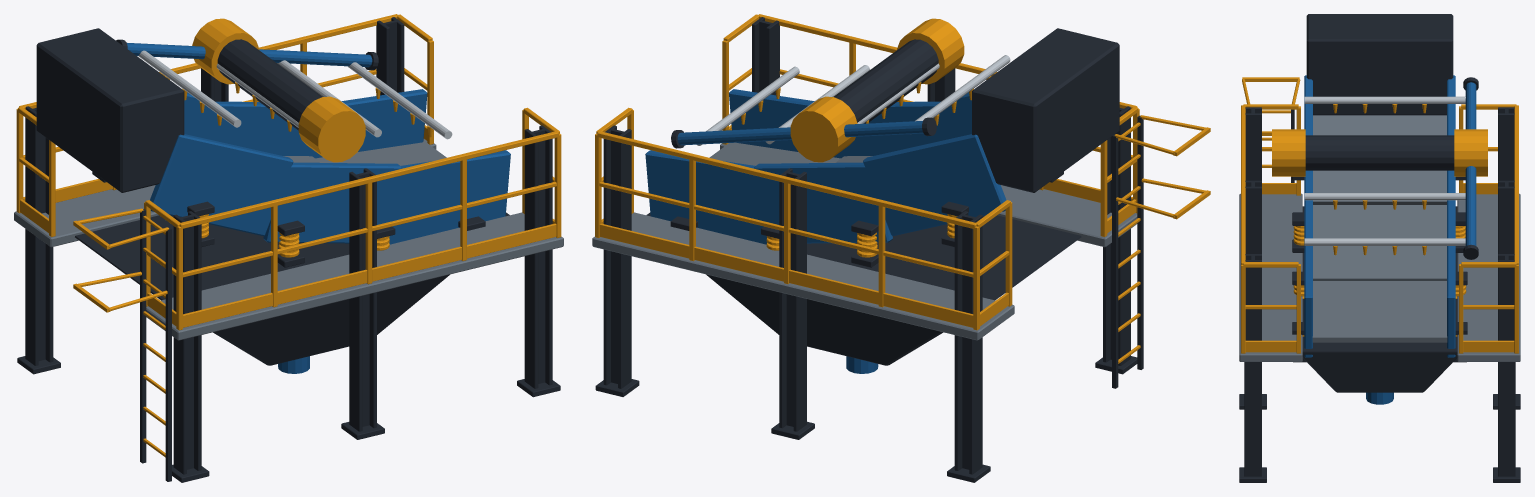
File: desliming_screen_ds201.glb
3 views of the same model, side by side, from view 1: azimuth 30°, elevation 25°; view 2: azimuth 150°, elevation 25°; view 3: azimuth 270°, elevation 25° (orthographic). The views are drawn at different scales.
Visible parts, largest first — view 1: DS201_Col_1_BasePlate; view 2: DS201_Col_1_BasePlate; view 3: DS201_Col_1_BasePlate.
Part boxes in pixels (<box>): DS201_Col_1_BasePlate: <box>14,14,563,482</box>; DS201_Col_1_BasePlate: <box>592,14,1210,482</box>; DS201_Col_1_BasePlate: <box>1239,14,1520,482</box>.
Bounding box in the file's own units: 4.54 × 3.38 × 2.84.
1 material, 1 textured.
